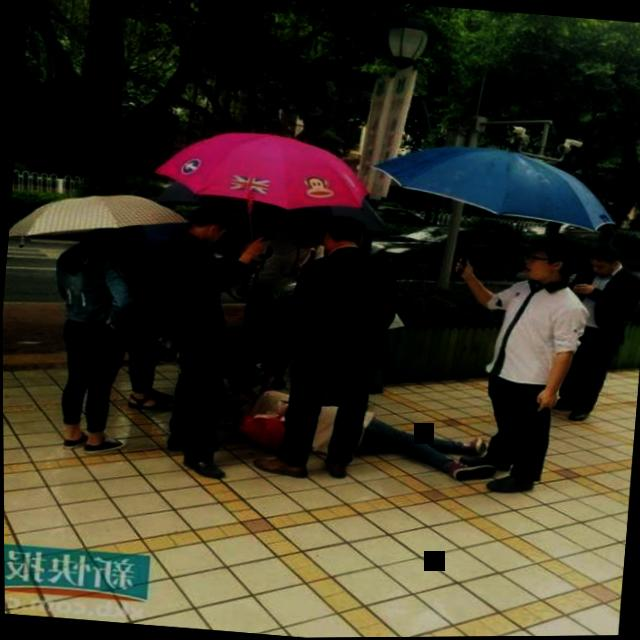Fall-Detected: (211, 367, 500, 493)
